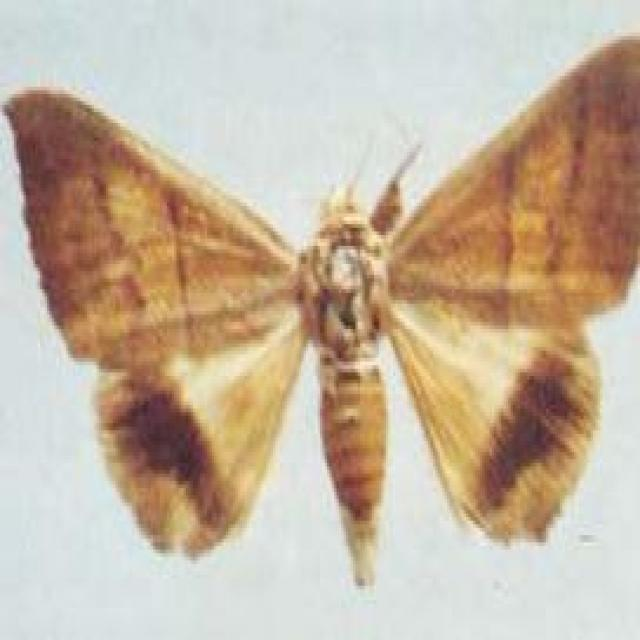BeetArmyWorm-Adult-: (0, 42, 636, 607)
